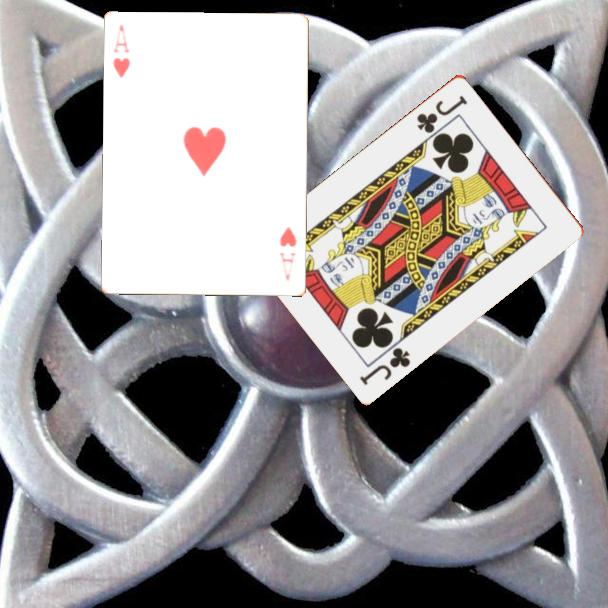c11: (413, 91, 471, 136), (356, 343, 413, 388)
h01: (109, 21, 133, 81), (277, 224, 300, 284)
